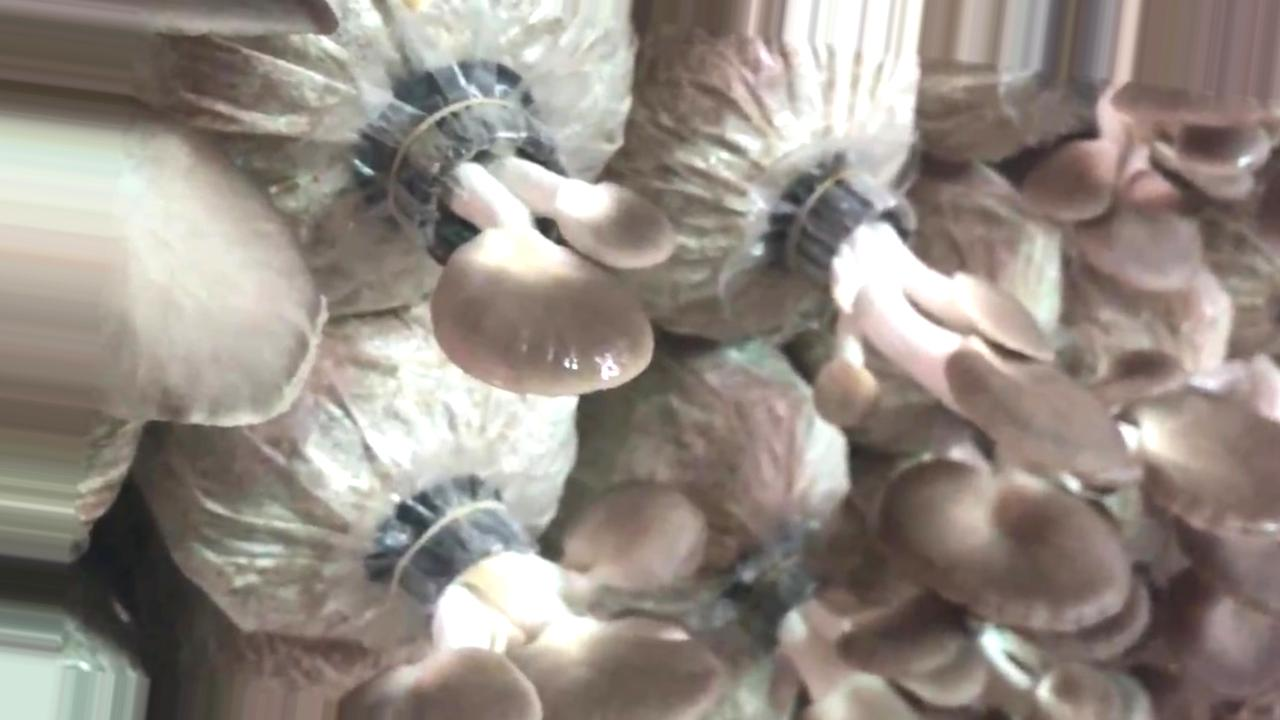nam: (788, 168, 1141, 484), (338, 468, 734, 720), (386, 87, 680, 406), (736, 552, 989, 720), (880, 463, 1131, 628), (1142, 391, 1280, 532), (1020, 142, 1120, 221), (1082, 218, 1206, 280)
